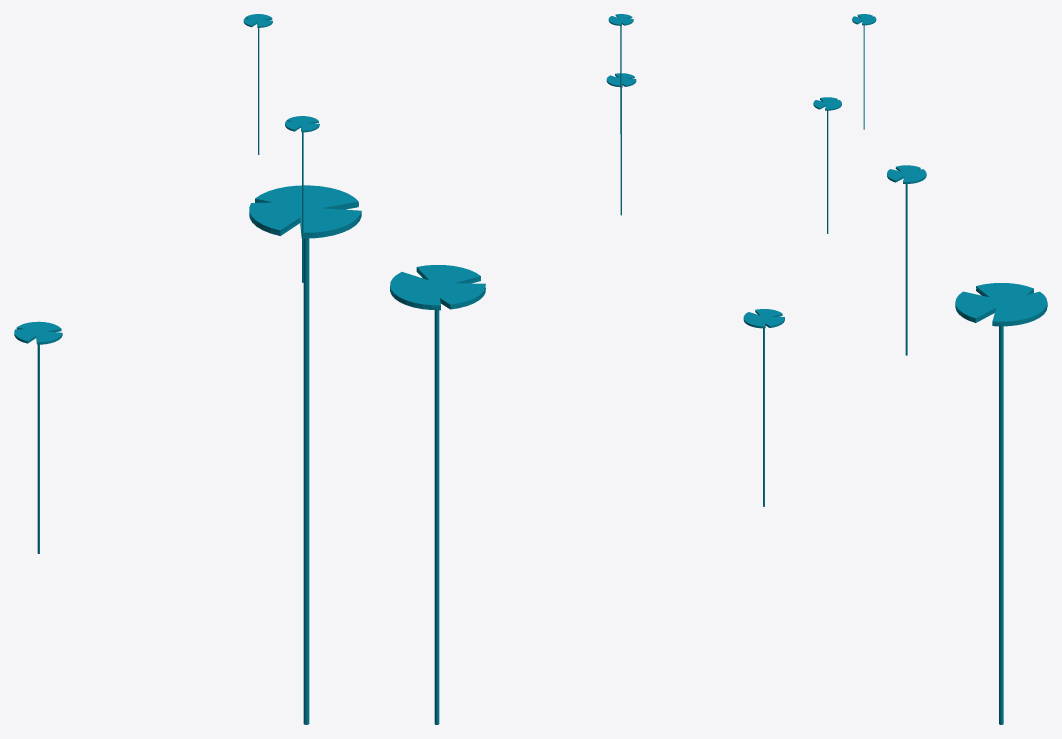
The model's file is lilyGroup1.fbx.
3 renders of one model, left to right at view 1: azimuth 30°, elevation 25°; view 2: azimuth 150°, elevation 25°; view 3: azimuth 270°, elevation 25°, orthographic. The views are drawn at different scales.
Parts seen in each view (by area): view 1: LilyPad1, LilyPad1 (1) (×3); view 2: LilyPad1, LilyPad1 (1); view 3: LilyPad1, LilyPad1 (1) (×3).
Part boxes in pixels (bbox=[...]): LilyPad1: bbox=[249, 185, 361, 724]; LilyPad1 (1) (×3): bbox=[14, 14, 319, 553]; LilyPad1: bbox=[390, 265, 485, 724]; LilyPad1 (1): bbox=[743, 309, 784, 506]; LilyPad1: bbox=[955, 283, 1047, 724]; LilyPad1 (1) (×3): bbox=[813, 14, 926, 355].
Bounding box in the file's own units: 8.09 × 15.62 × 5.08.
